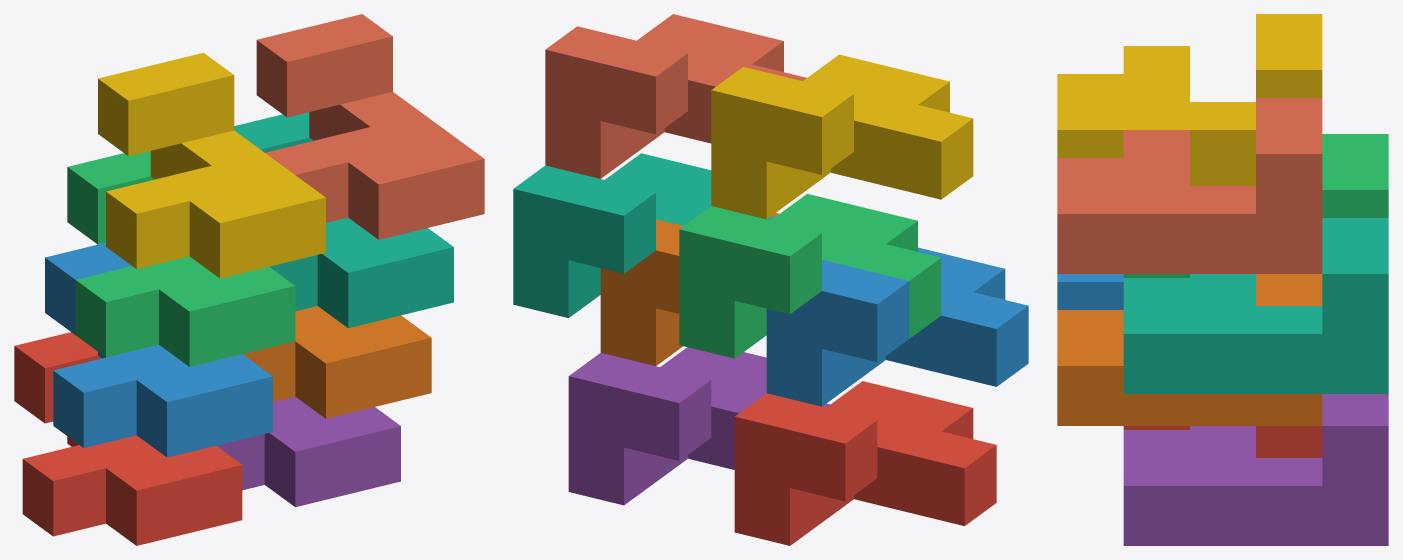
File: tiling.obj
3 views of the same model, side by side, from view 1: azimuth 30°, elevation 25°; view 2: azimuth 150°, elevation 25°; view 3: azimuth 270°, elevation 25° (orthographic). The views are drawn at different scales.
Parts seen in each view (by area): view 1: copy_1_domain_4, copy_1_domain_8, copy_1_domain_3, copy_1_domain_1, copy_1_domain_2, copy_1_domain_7, copy_1_domain_6, copy_1_domain_5; view 2: copy_1_domain_1, copy_1_domain_4, copy_1_domain_3, copy_1_domain_2, copy_1_domain_8, copy_1_domain_5, copy_1_domain_7, copy_1_domain_6; view 3: copy_1_domain_8, copy_1_domain_7, copy_1_domain_5, copy_1_domain_4, copy_1_domain_6, copy_1_domain_3, copy_1_domain_1, copy_1_domain_2.
Boxes of the visible parts, x1,y1,x2,y2 form: copy_1_domain_4: (98, 52, 325, 278); copy_1_domain_8: (256, 14, 484, 239); copy_1_domain_3: (67, 151, 295, 366); copy_1_domain_1: (14, 332, 242, 545); copy_1_domain_2: (45, 242, 272, 457); copy_1_domain_7: (234, 112, 453, 328); copy_1_domain_6: (242, 306, 431, 418); copy_1_domain_5: (216, 396, 400, 507); copy_1_domain_1: (734, 381, 996, 545); copy_1_domain_4: (711, 54, 973, 219); copy_1_domain_3: (679, 193, 941, 358); copy_1_domain_2: (766, 247, 1028, 406); copy_1_domain_8: (545, 14, 806, 178); copy_1_domain_5: (568, 347, 829, 505); copy_1_domain_7: (513, 153, 774, 317); copy_1_domain_6: (600, 213, 779, 365); copy_1_domain_8: (1057, 98, 1322, 273); copy_1_domain_7: (1123, 218, 1388, 393); copy_1_domain_5: (1123, 394, 1388, 545); copy_1_domain_4: (1057, 14, 1322, 185); copy_1_domain_6: (1057, 274, 1322, 425); copy_1_domain_3: (1123, 134, 1388, 277); copy_1_domain_1: (1123, 426, 1322, 457); copy_1_domain_2: (1057, 274, 1123, 309).
Size of the model in its own units: 7 by 7 by 5.
